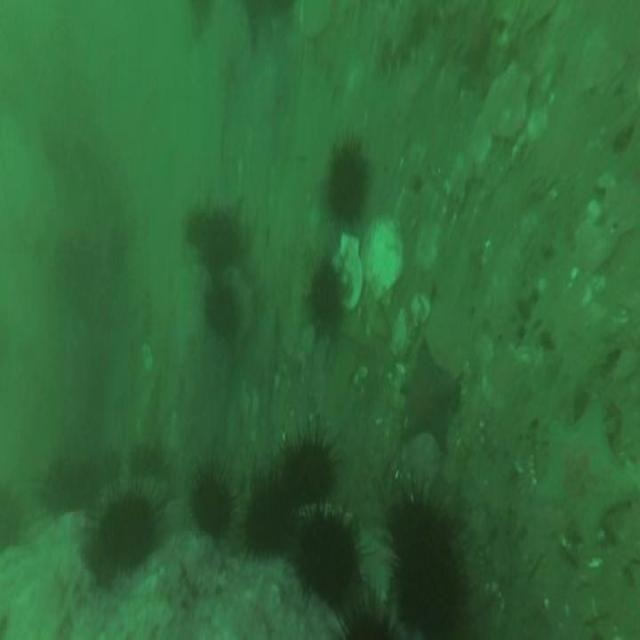echinus: (393, 542, 464, 634), (298, 514, 356, 600), (102, 494, 154, 566), (282, 438, 333, 502), (390, 494, 446, 552), (326, 144, 368, 221), (187, 212, 240, 268), (248, 493, 285, 559), (191, 474, 230, 534), (46, 455, 78, 514), (312, 260, 342, 322), (207, 288, 235, 334)
holothurian: (352, 7, 415, 78)
scallop: (365, 214, 407, 300), (338, 234, 365, 314)
starfish: (534, 403, 639, 536), (402, 341, 461, 452), (248, 310, 288, 378)
